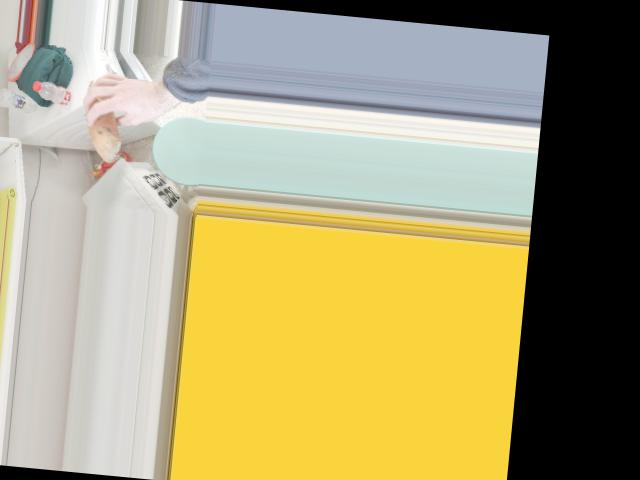sweet_potato: (80, 75, 124, 160)
